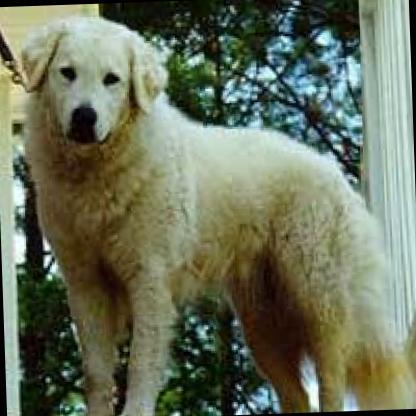kuvasz: (9, 0, 416, 416)
